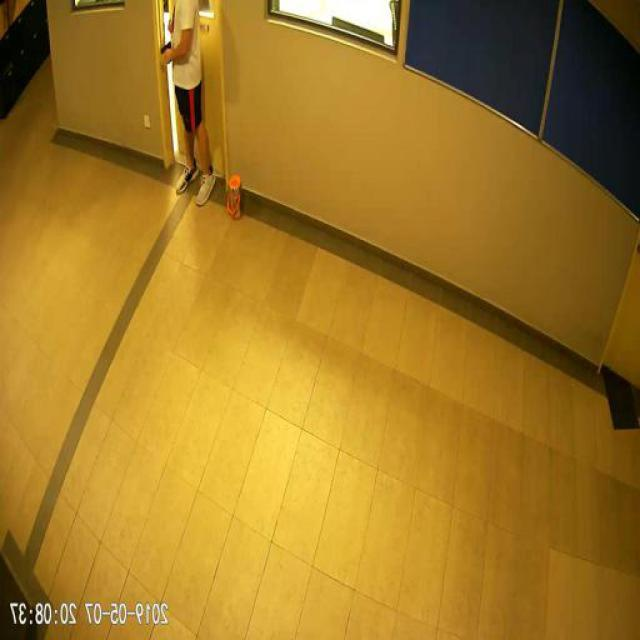weapon: (160, 40, 172, 61)
